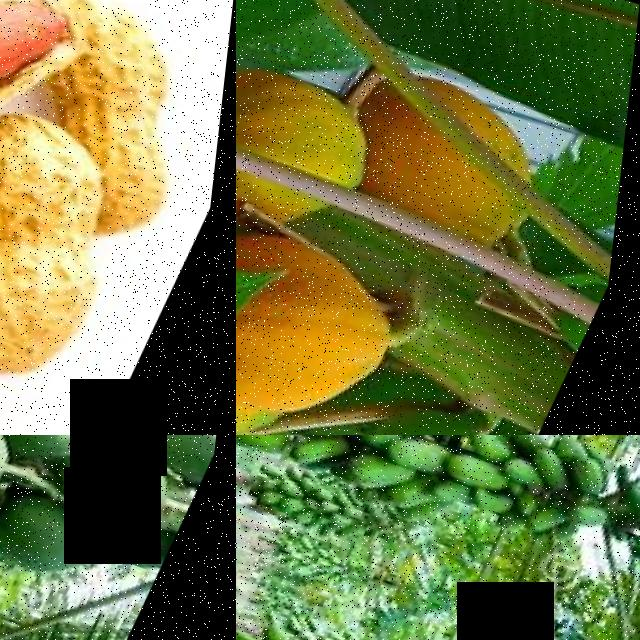pawpaw: (236, 49, 401, 257), (64, 438, 194, 547), (0, 488, 123, 594), (0, 435, 116, 471), (341, 448, 418, 502), (443, 451, 518, 501), (384, 435, 459, 483), (289, 435, 355, 480), (236, 435, 298, 468)
peanuts: (0, 190, 140, 403), (0, 0, 71, 105)
